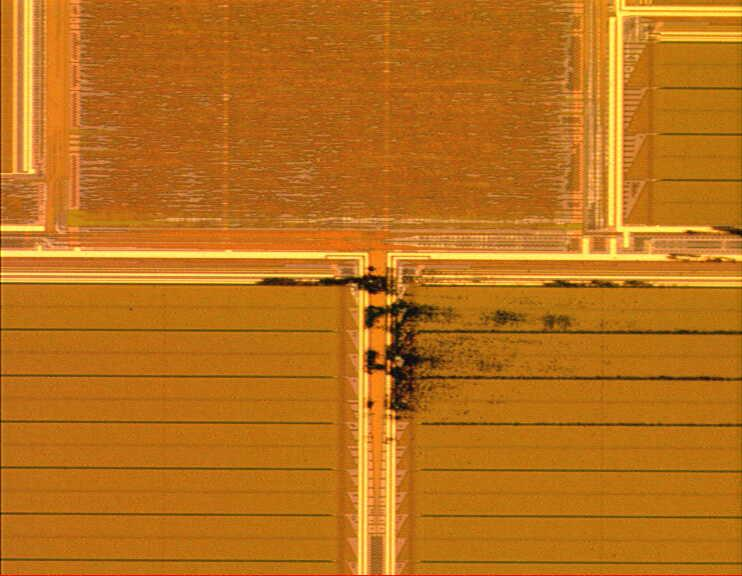SCRATCH: (232, 220, 742, 449)
